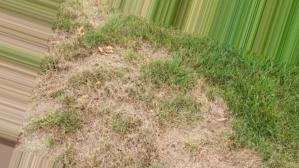patch: (86, 57, 196, 168)
